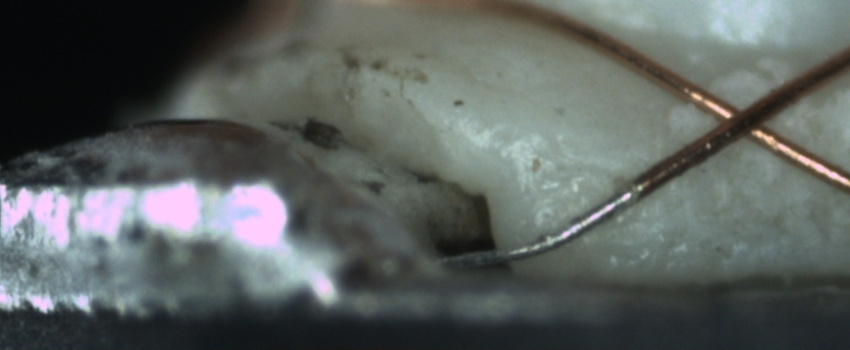CL: (699, 81, 791, 151)
DL: (535, 144, 656, 199)
TS: (440, 182, 642, 269)
TTCW: (442, 146, 693, 268)
